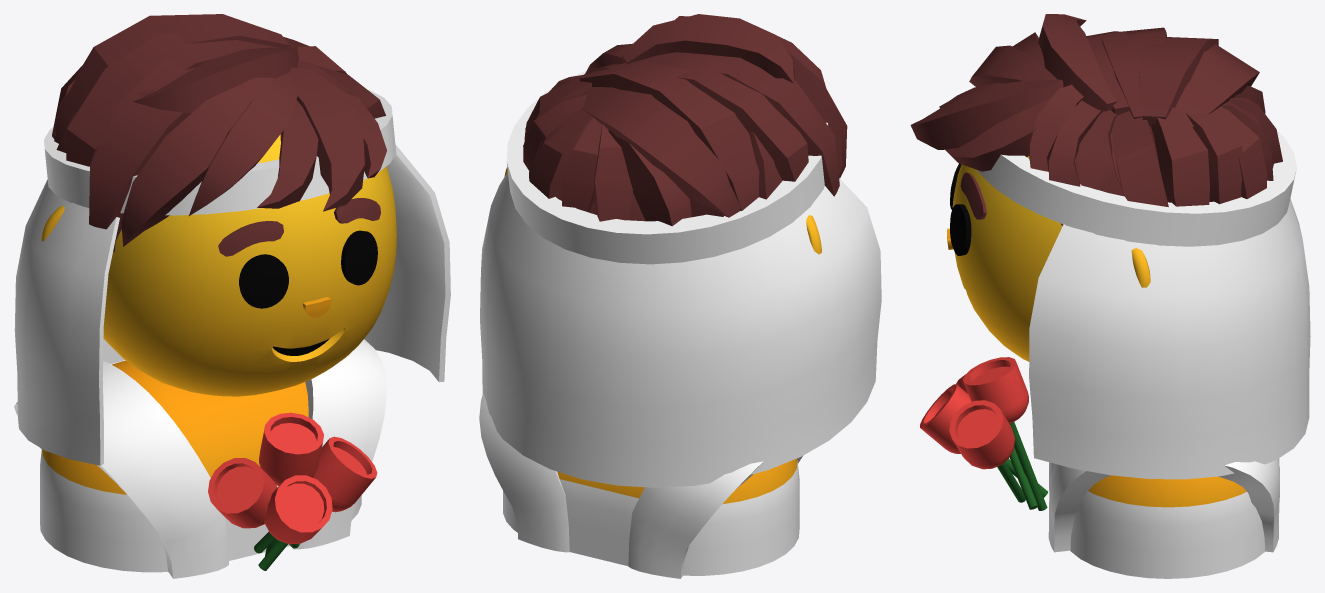
Rendered from person_with_veil.glb.
The picture shows the model from 3 angles, left to right: view 1: azimuth 30°, elevation 25°; view 2: azimuth 150°, elevation 25°; view 3: azimuth 270°, elevation 25°; orthographic projection. The views are drawn at different scales.
Parts seen in each view (by area): view 1: Cube.2185, Roundcube.175, Sphere.147, Sphere.146, Sphere.145, Cylinder.146, Circle.879, Circle.881; view 2: Sphere.147, Cube.2185, Sphere.146, Sphere.145; view 3: Sphere.147, Cube.2185, Sphere.146, Sphere.145, Roundcube.175, Cylinder.146, Circle.879, Circle.881, Cylinder.142.
Boxes of the visible parts, left/top/right/bottom form: Cube.2185: left=52, top=14, right=386, bottom=246; Roundcube.175: left=103, top=134, right=396, bottom=396; Sphere.147: left=14, top=144, right=450, bottom=465; Sphere.146: left=14, top=89, right=396, bottom=578; Sphere.145: left=40, top=360, right=361, bottom=572; Cylinder.146: left=208, top=412, right=377, bottom=570; Circle.879: left=239, top=230, right=377, bottom=308; Circle.881: left=218, top=198, right=380, bottom=256; Sphere.147: left=480, top=172, right=881, bottom=487; Cube.2185: left=523, top=14, right=847, bottom=226; Sphere.146: left=479, top=70, right=828, bottom=578; Sphere.145: left=503, top=458, right=799, bottom=575; Sphere.147: left=1029, top=199, right=1310, bottom=479; Cube.2185: left=910, top=14, right=1282, bottom=225; Sphere.146: left=977, top=131, right=1296, bottom=552; Sphere.145: left=1070, top=475, right=1264, bottom=578; Roundcube.175: left=952, top=126, right=1154, bottom=361; Cylinder.146: left=920, top=357, right=1047, bottom=510; Circle.879: left=950, top=163, right=971, bottom=255; Circle.881: left=960, top=172, right=986, bottom=219; Cylinder.142: left=1131, top=248, right=1150, bottom=287.
Size of the model in its own units: 1.96 by 2.48 by 1.9.
Materials: 1 (1 with a texture image).
